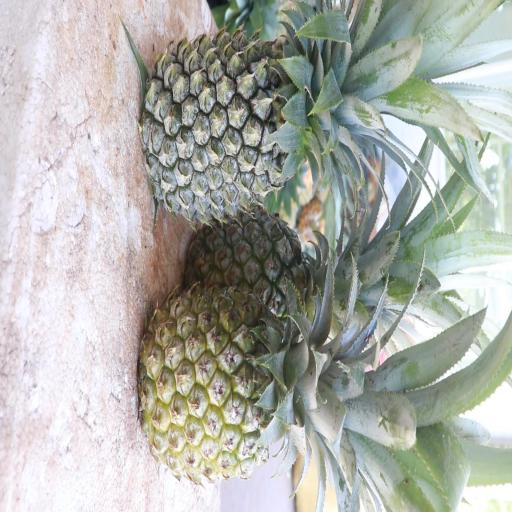------------------------------: (134, 275, 373, 484), (178, 200, 378, 349)
